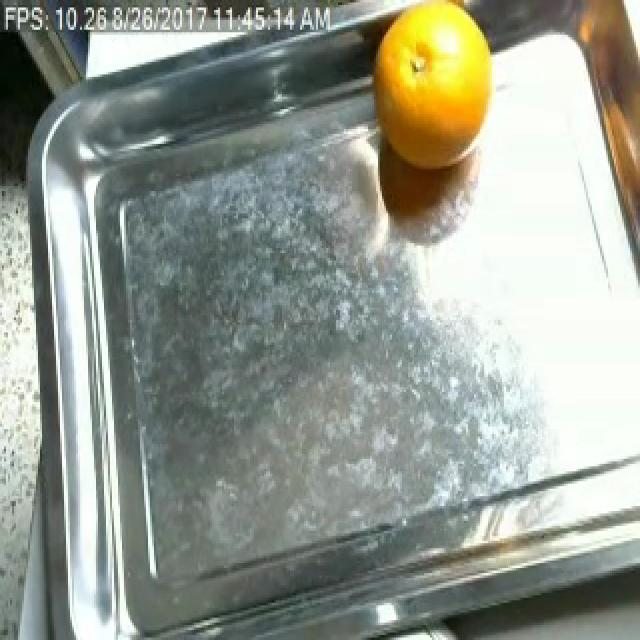Fruit: (354, 0, 520, 189), (568, 0, 640, 201)
